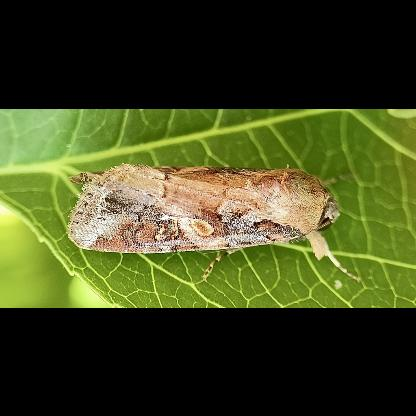Fall Armyworm Moth: (64, 158, 366, 286)
